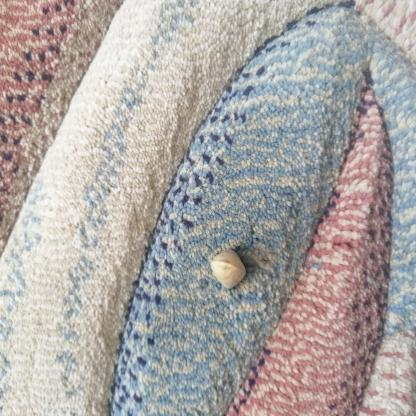pistachio: (210, 247, 252, 292)
